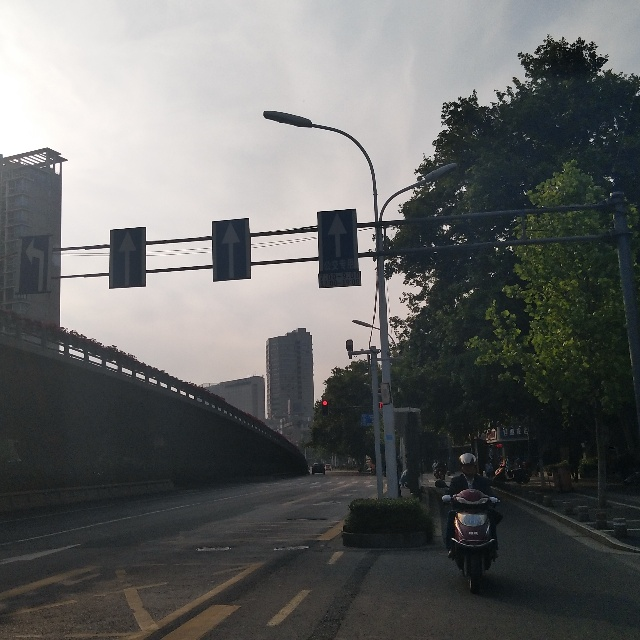left: (17, 239, 49, 289)
straight: (212, 220, 251, 279), (320, 209, 360, 266), (113, 225, 141, 282)
